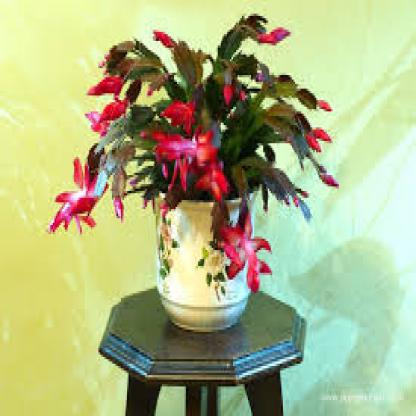Aglonema: (96, 22, 241, 389)
